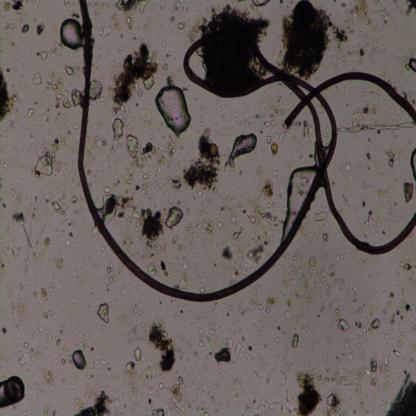Air bubble: (278, 164, 315, 231), (154, 87, 192, 137), (228, 131, 258, 170), (60, 18, 83, 50), (71, 349, 87, 372), (409, 148, 416, 180), (408, 56, 416, 72)
Background material: (198, 4, 263, 90), (278, 0, 331, 77), (109, 40, 159, 116), (182, 129, 224, 195), (282, 254, 332, 298), (248, 179, 288, 226), (142, 200, 183, 242), (148, 316, 176, 374), (122, 346, 152, 396), (292, 368, 322, 415), (32, 139, 66, 179), (384, 374, 416, 415), (117, 303, 146, 344), (326, 270, 360, 303), (127, 134, 157, 171), (245, 353, 277, 386), (70, 390, 112, 415), (154, 140, 178, 182), (258, 94, 283, 130), (0, 65, 16, 121), (120, 219, 140, 260), (325, 366, 368, 385), (70, 324, 96, 355), (215, 336, 243, 364), (387, 304, 416, 331), (115, 1, 149, 24), (219, 197, 249, 223), (350, 0, 376, 28), (167, 376, 186, 414), (98, 190, 119, 224), (0, 23, 20, 57), (120, 192, 140, 226), (369, 354, 390, 386), (221, 372, 242, 403), (345, 382, 364, 416), (329, 18, 351, 47), (53, 335, 72, 368), (327, 238, 352, 263), (53, 90, 82, 111), (196, 215, 224, 236), (233, 107, 257, 131), (358, 206, 381, 230), (247, 296, 276, 315), (264, 132, 286, 157), (208, 368, 226, 398), (28, 238, 50, 262), (298, 119, 315, 150), (138, 242, 167, 260), (273, 320, 293, 346), (257, 399, 291, 414), (382, 145, 399, 175), (342, 341, 366, 362), (90, 76, 105, 107), (147, 258, 168, 280), (326, 392, 346, 415), (34, 285, 57, 305), (244, 242, 264, 265), (250, 227, 273, 247), (195, 305, 215, 328), (223, 301, 247, 320), (85, 132, 104, 156), (38, 362, 56, 387), (100, 342, 114, 374), (176, 20, 198, 40), (400, 179, 416, 206), (88, 0, 112, 18), (314, 298, 330, 324), (112, 390, 128, 416), (63, 129, 79, 154), (363, 150, 381, 172), (2, 115, 19, 138), (32, 325, 53, 343), (294, 235, 312, 256), (280, 347, 292, 378), (102, 264, 117, 288), (166, 173, 181, 197), (110, 116, 125, 140), (25, 204, 41, 226), (138, 20, 152, 45), (52, 198, 69, 218), (1, 0, 25, 14), (195, 270, 210, 292), (10, 304, 28, 322), (34, 94, 51, 113), (111, 15, 125, 38), (221, 244, 237, 264), (46, 70, 62, 90), (49, 41, 65, 61), (185, 234, 201, 254), (97, 301, 110, 325), (314, 206, 328, 228), (16, 350, 33, 368), (55, 112, 71, 131), (14, 72, 29, 92), (8, 183, 22, 204), (399, 0, 416, 17), (212, 396, 228, 414), (11, 322, 27, 339), (138, 106, 156, 121), (381, 285, 395, 304), (354, 256, 371, 271), (87, 373, 102, 390), (189, 378, 204, 395), (195, 104, 207, 125), (52, 182, 70, 196), (97, 24, 114, 38), (110, 140, 122, 159), (337, 317, 352, 332), (242, 396, 256, 412), (49, 255, 65, 269), (10, 11, 28, 23), (199, 326, 217, 338), (118, 283, 130, 301), (197, 401, 211, 416), (368, 317, 383, 331), (401, 259, 415, 274), (353, 320, 368, 334), (164, 73, 178, 88), (34, 51, 50, 64), (26, 0, 42, 13), (9, 212, 26, 224), (17, 284, 27, 304), (251, 320, 264, 335), (66, 7, 81, 20), (389, 266, 402, 281), (0, 253, 8, 276), (140, 172, 148, 195), (171, 238, 184, 252), (214, 98, 230, 109), (286, 298, 294, 320), (355, 45, 366, 61), (290, 331, 300, 348), (379, 187, 389, 204), (109, 60, 123, 72), (32, 73, 43, 88), (63, 63, 74, 78), (174, 278, 189, 289), (171, 0, 182, 15), (283, 383, 291, 403), (36, 21, 46, 37), (19, 23, 31, 36), (178, 350, 190, 363), (126, 172, 136, 187), (394, 331, 404, 346), (194, 201, 206, 213), (49, 127, 60, 140), (296, 154, 309, 165), (256, 165, 266, 179), (181, 253, 188, 273), (150, 406, 165, 415), (158, 0, 167, 15), (231, 228, 242, 240), (38, 194, 50, 205), (25, 128, 35, 141), (1, 158, 11, 171), (183, 204, 192, 218), (126, 15, 132, 36), (353, 304, 364, 315), (19, 342, 31, 352), (185, 397, 193, 412), (72, 370, 82, 382), (383, 330, 391, 344), (25, 108, 35, 119), (44, 309, 54, 320), (162, 50, 172, 61), (398, 295, 408, 306), (54, 227, 65, 237), (178, 331, 186, 344), (174, 63, 182, 76), (70, 292, 78, 305), (72, 193, 80, 206), (354, 332, 364, 342), (154, 183, 164, 193), (30, 191, 39, 202), (407, 276, 416, 287), (12, 247, 21, 258), (322, 231, 329, 245), (230, 321, 238, 333), (197, 338, 205, 350), (270, 166, 278, 178), (42, 112, 50, 124), (306, 324, 314, 336), (159, 380, 166, 393), (159, 62, 172, 69), (0, 197, 7, 210), (6, 224, 15, 234), (392, 349, 402, 358), (96, 161, 106, 170), (113, 180, 121, 191), (6, 284, 14, 295), (98, 243, 106, 254), (186, 222, 194, 233), (51, 272, 59, 283), (332, 307, 340, 318), (67, 217, 75, 228), (42, 404, 49, 416), (191, 348, 198, 360), (325, 334, 332, 346), (410, 341, 416, 355), (178, 306, 186, 316), (32, 381, 40, 391), (64, 240, 72, 250), (62, 0, 71, 8), (104, 184, 112, 193), (407, 354, 416, 362), (48, 390, 57, 398), (60, 322, 66, 334), (169, 15, 175, 27), (91, 359, 98, 369), (20, 409, 29, 416), (51, 407, 58, 416), (70, 174, 76, 184), (169, 260, 175, 270), (0, 176, 4, 191), (2, 326, 8, 336), (40, 388, 46, 398), (15, 148, 21, 158), (97, 43, 104, 51), (86, 253, 91, 264), (102, 139, 108, 148), (52, 25, 58, 34), (324, 354, 330, 362), (300, 339, 306, 347), (134, 184, 140, 191), (106, 49, 112, 56), (208, 350, 214, 357), (5, 66, 11, 73), (0, 238, 5, 246), (68, 230, 74, 236), (241, 336, 247, 342), (188, 2, 194, 8), (218, 321, 223, 328), (162, 43, 167, 50), (0, 146, 7, 151), (73, 212, 78, 219), (25, 144, 29, 152), (11, 236, 16, 242), (96, 56, 102, 61), (18, 98, 23, 104), (26, 281, 32, 286), (404, 368, 408, 375), (21, 180, 26, 185), (376, 332, 380, 338), (156, 128, 160, 133), (33, 16, 36, 22), (383, 310, 387, 314), (38, 121, 42, 125), (23, 172, 26, 177), (250, 346, 253, 351), (63, 378, 66, 383), (27, 165, 29, 170), (196, 98, 198, 102)
Cellulose filter fibre: (337, 119, 414, 135)
Diatom: (0, 371, 25, 407)
Microfibre: (78, 0, 416, 304), (283, 72, 416, 132)
